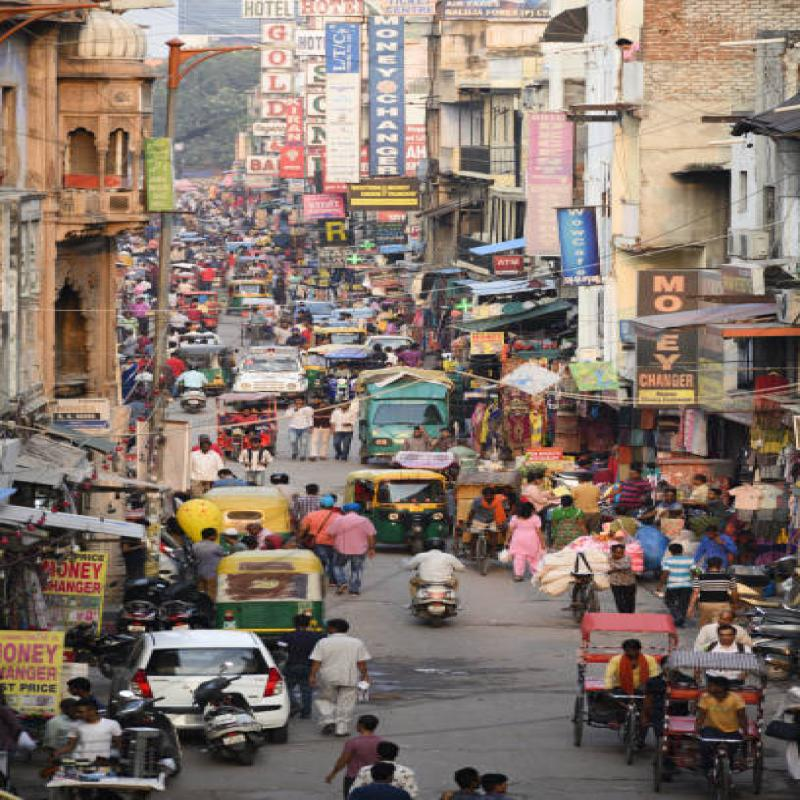auto: (200, 544, 339, 646), (166, 471, 306, 542), (339, 465, 458, 539)
bike: (191, 691, 274, 765), (410, 564, 469, 629)
